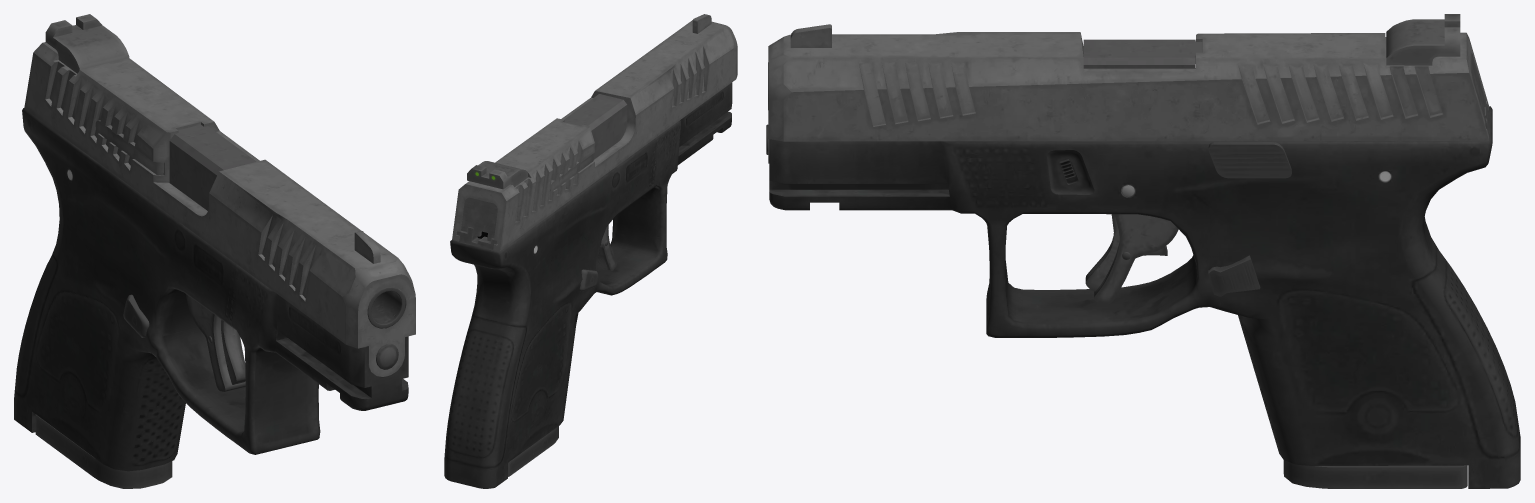
The model's file is h4_compact.glb.
The picture shows the model from 3 angles, left to right: view 1: azimuth 30°, elevation 25°; view 2: azimuth 150°, elevation 25°; view 3: azimuth 270°, elevation 25°; orthographic projection. The views are drawn at different scales.
Visible parts, largest first — view 1: body; view 2: body; view 3: body.
Part boxes in pixels (x1,y1,x2,y2): body: (14, 14, 415, 488); body: (444, 14, 737, 488); body: (766, 14, 1520, 488).
Bounding box in the file's own units: 0.026 × 0.1214 × 0.186.
Materials: 2 (2 with a texture image).
